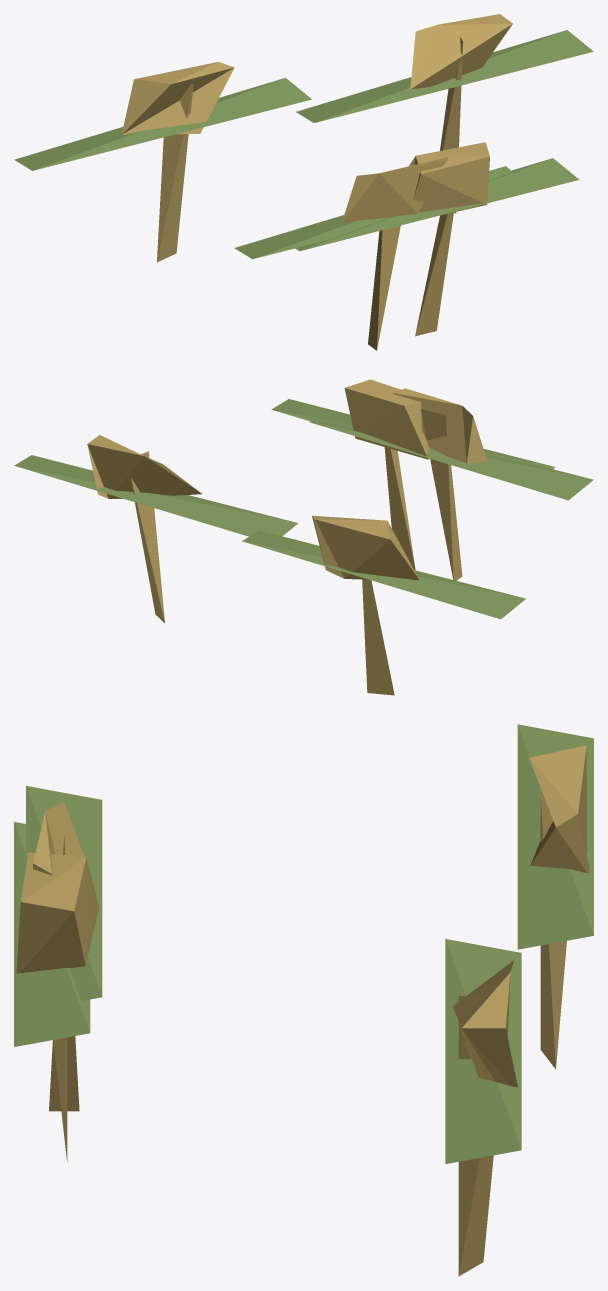
The model's file is rice-mid.glb.
3 renders of one model, top to bottom at view 1: azimuth 30°, elevation 25°; view 2: azimuth 150°, elevation 25°; view 3: azimuth 270°, elevation 25°, orthographic. The views are drawn at different scales.
Visible parts, largest first — view 1: rice-mid; view 2: rice-mid; view 3: rice-mid.
Part boxes in pixels (x1,y1,x2,y2): rice-mid: (14,14,593,350); rice-mid: (14,379,593,695); rice-mid: (14,724,593,1276).
Bounding box in the file's own units: 4.12 × 1.3 × 2.27.
